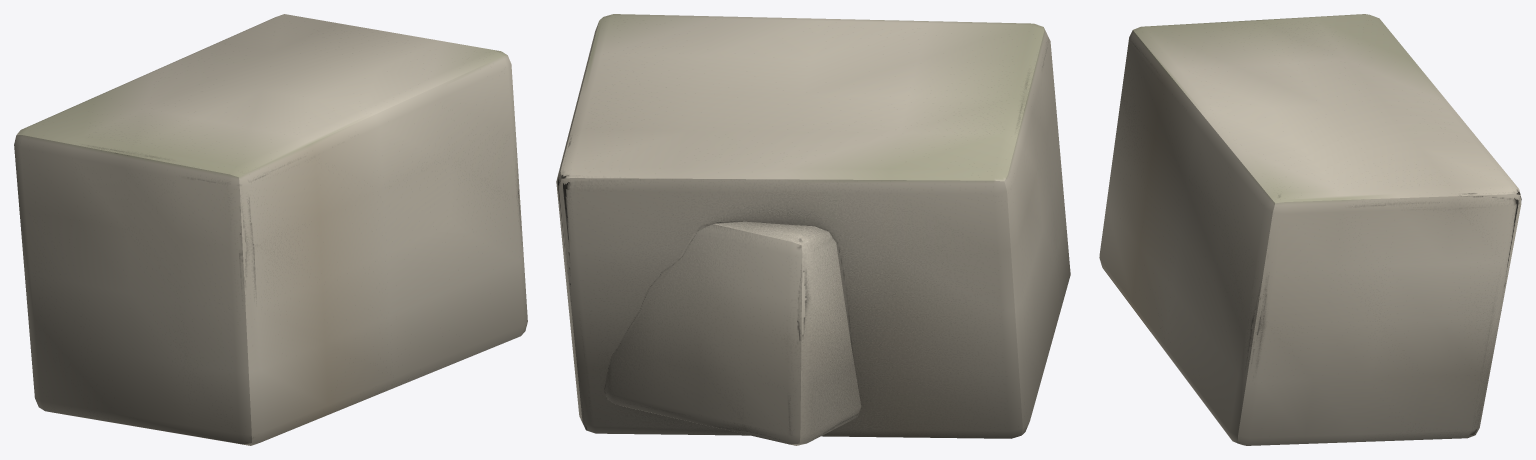
Rendered from cenario_blocos_cal_c.glb.
The picture shows the model from 3 angles, left to right: view 1: azimuth 30°, elevation 25°; view 2: azimuth 150°, elevation 25°; view 3: azimuth 270°, elevation 25°; orthographic projection. The views are drawn at different scales.
Parts seen in each view (by area): view 1: cenario_blocos_cal_c; view 2: cenario_blocos_cal_c; view 3: cenario_blocos_cal_c.
Boxes of the visible parts, bbox=[...] form: cenario_blocos_cal_c: bbox=[14, 14, 527, 445]; cenario_blocos_cal_c: bbox=[556, 14, 1070, 445]; cenario_blocos_cal_c: bbox=[1099, 14, 1521, 445].
Bounding box in the file's own units: 1.5 × 1.05 × 1.34.
1 material, 1 textured.
